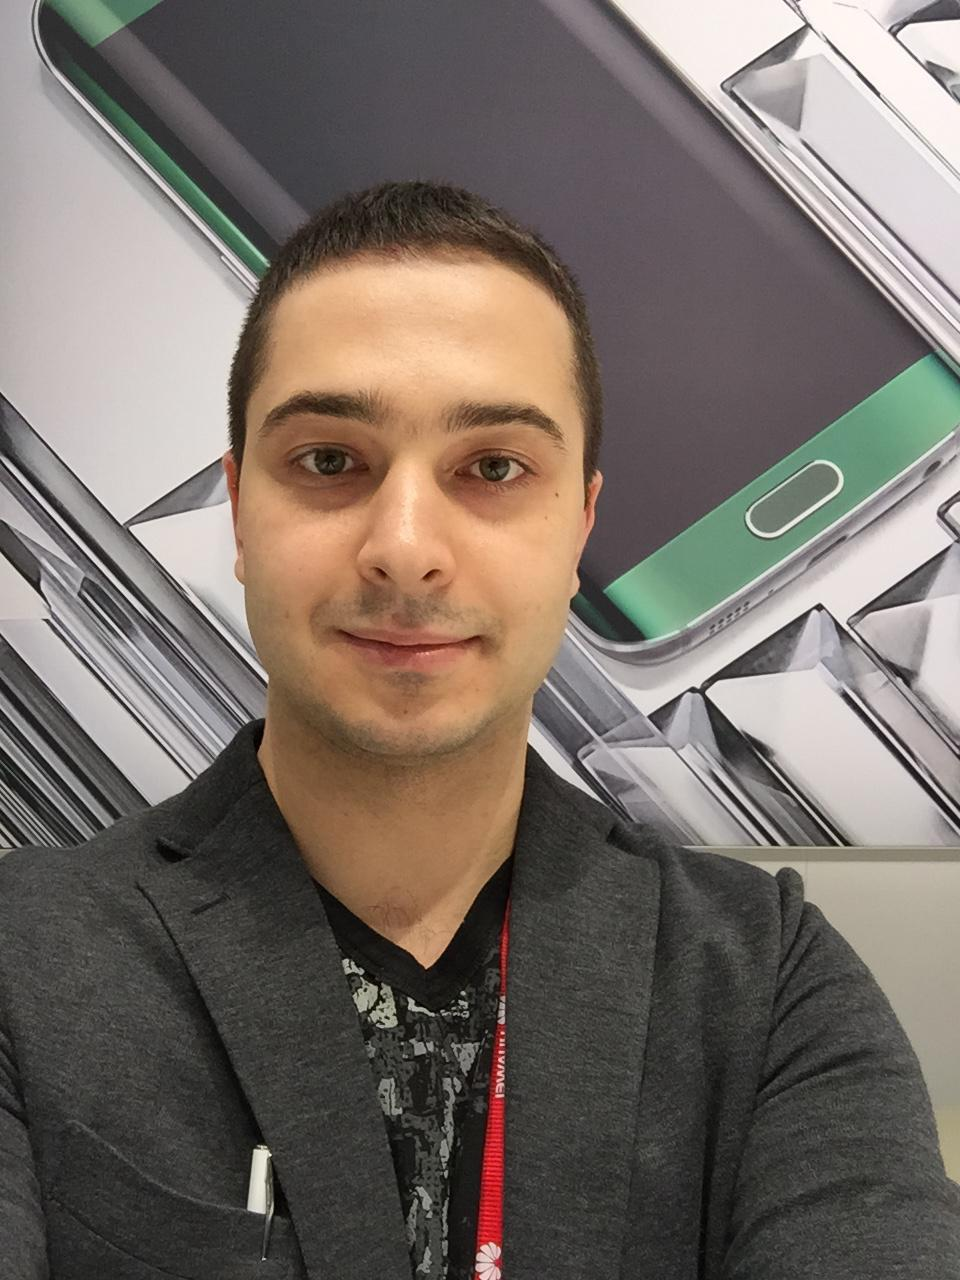face: (246, 254, 577, 759)
